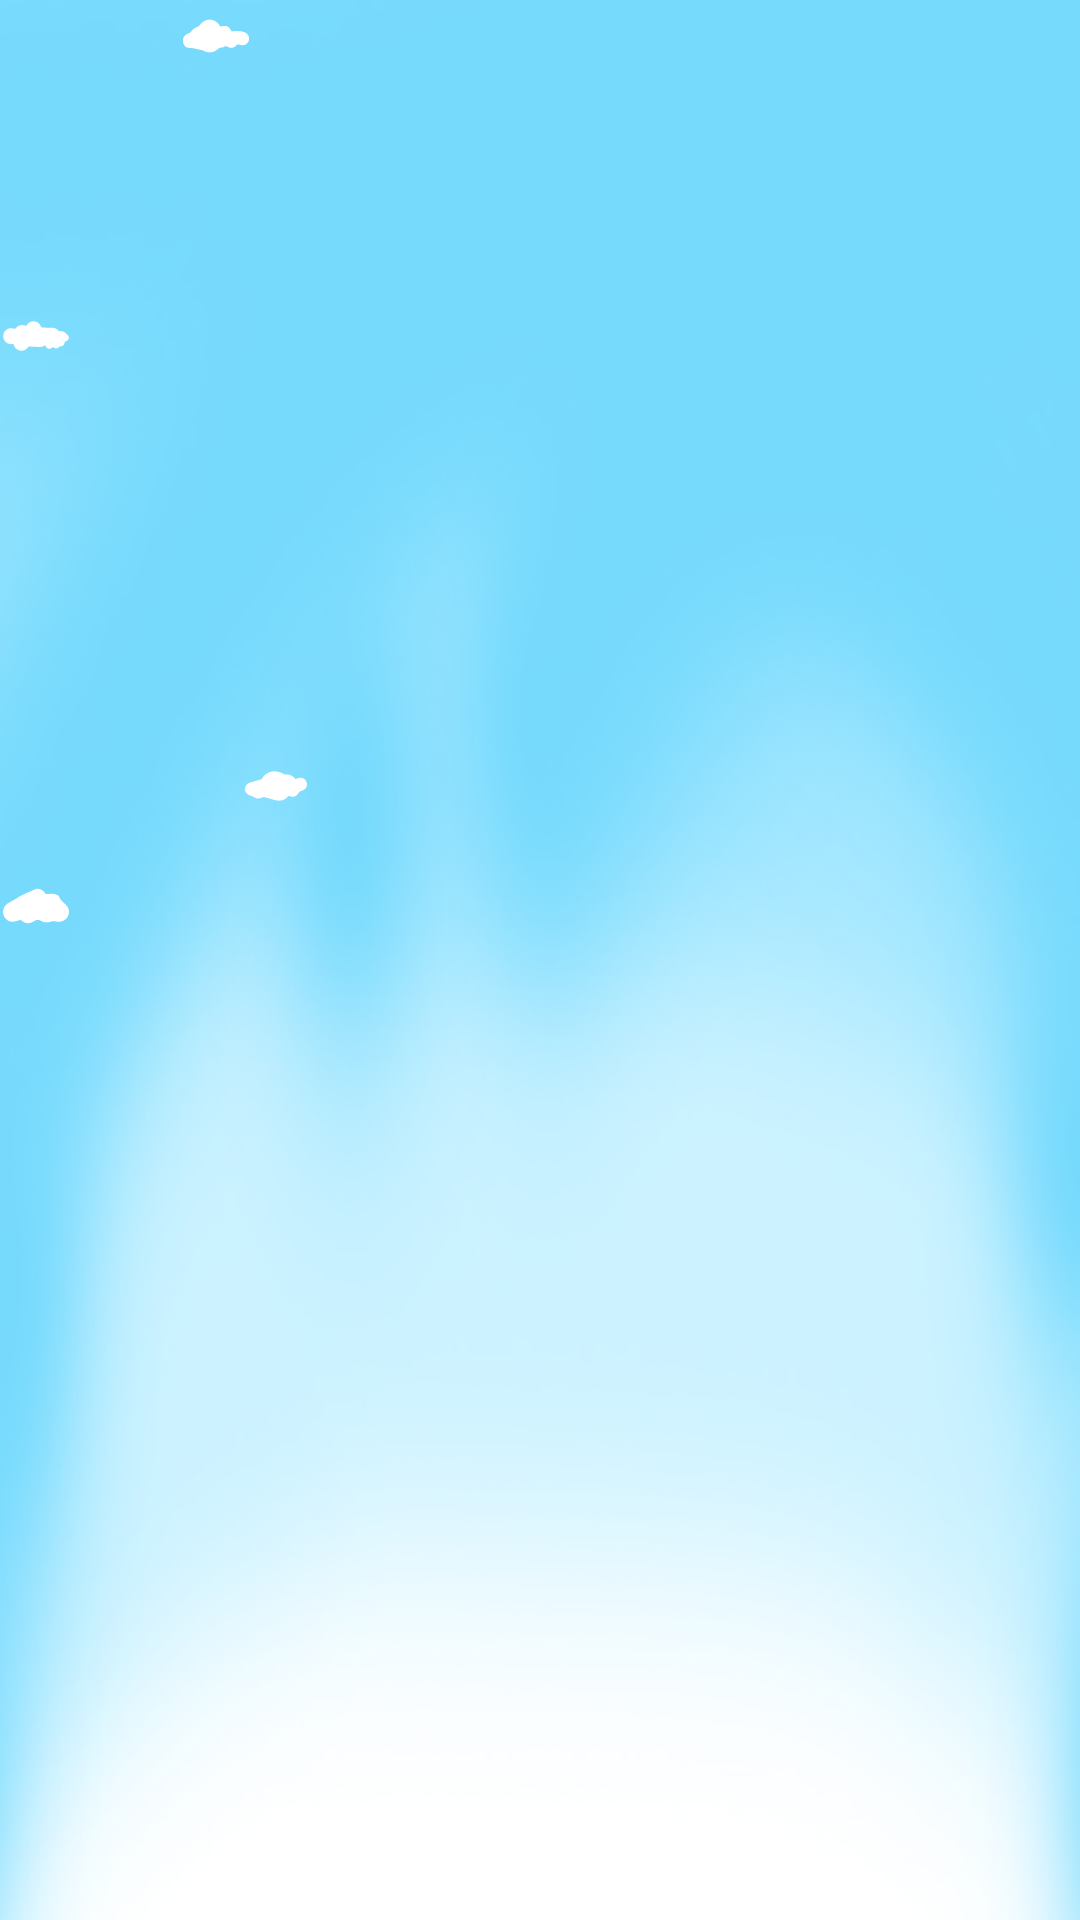

Where icons sit on this 1080*1920 app screen, as (x1, y1, x2, y2):
cloud: (3, 321, 69, 351), (3, 888, 69, 924)
